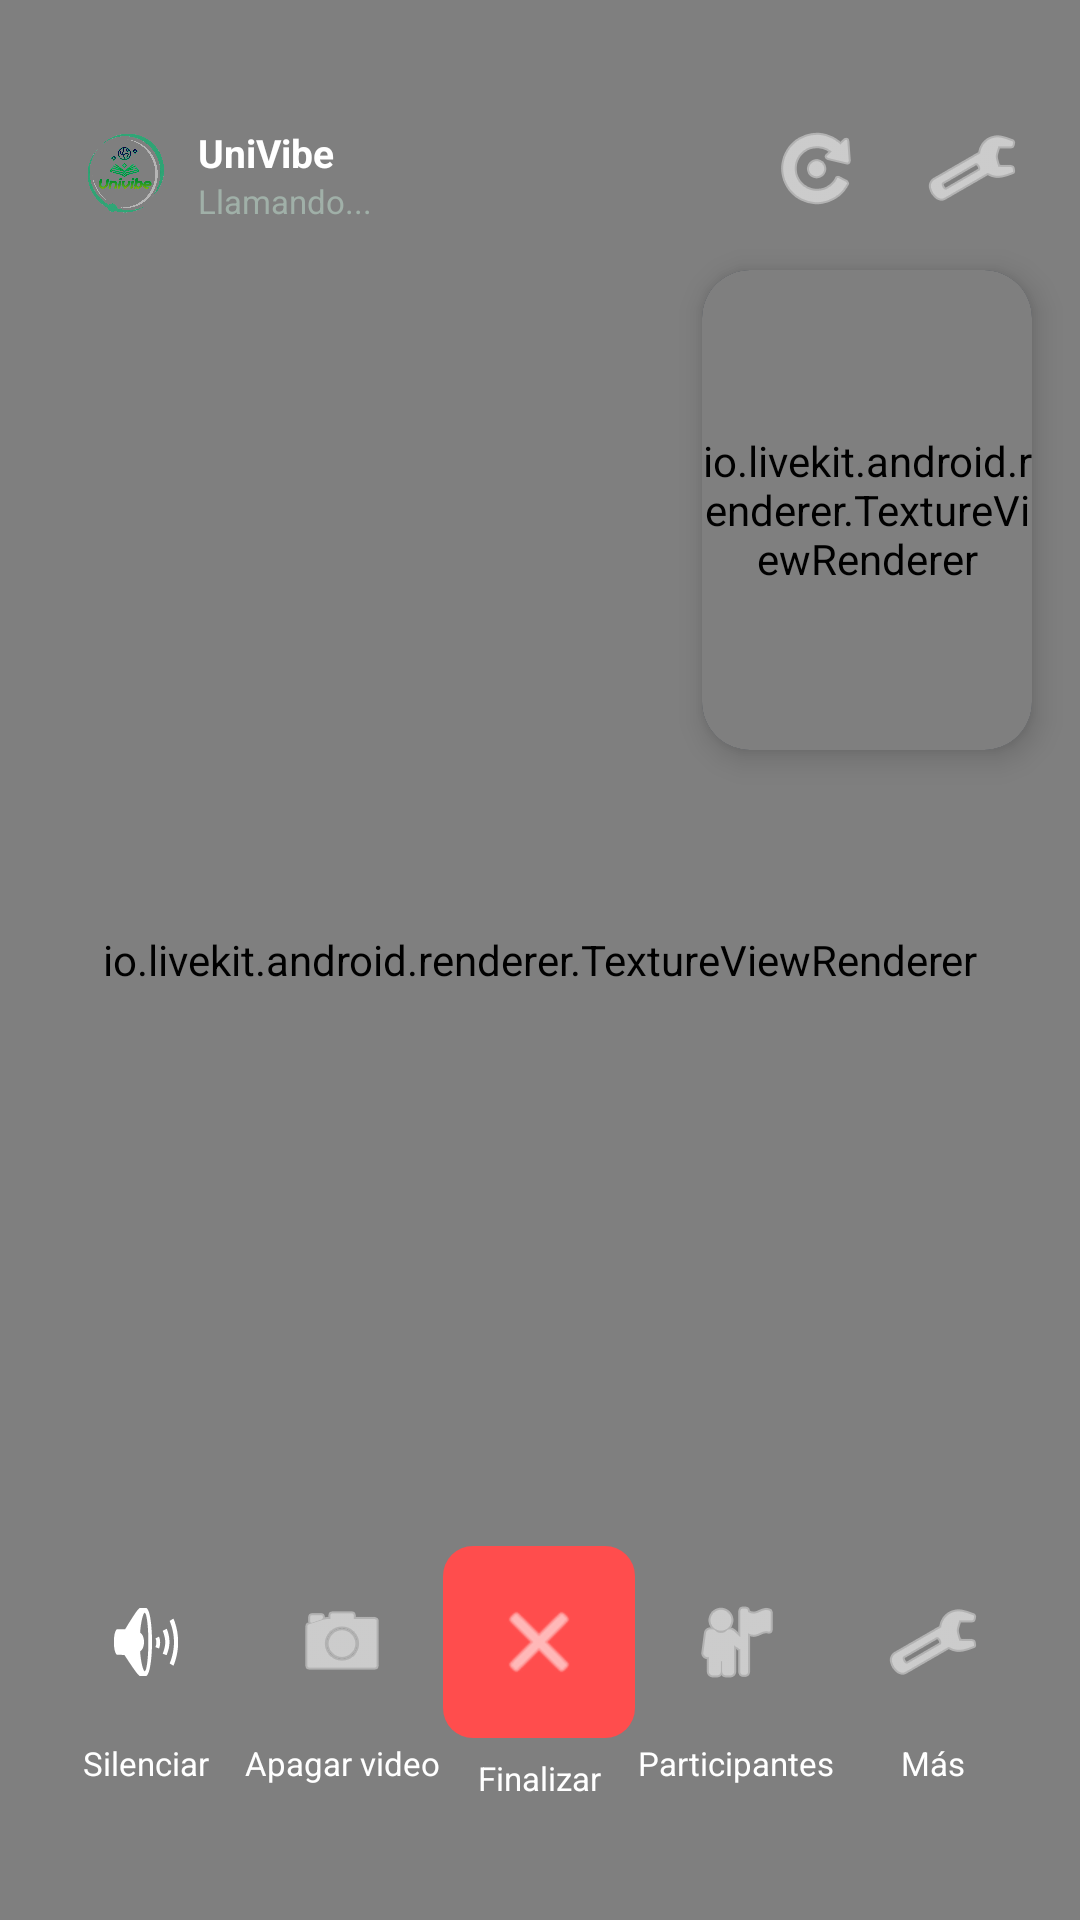

Icon click points for this 1080x1920 phone screenshot, format (x,y):
camera: (342,1640)
manage: (972,168), (933,1642)
rotate: (816,168)
